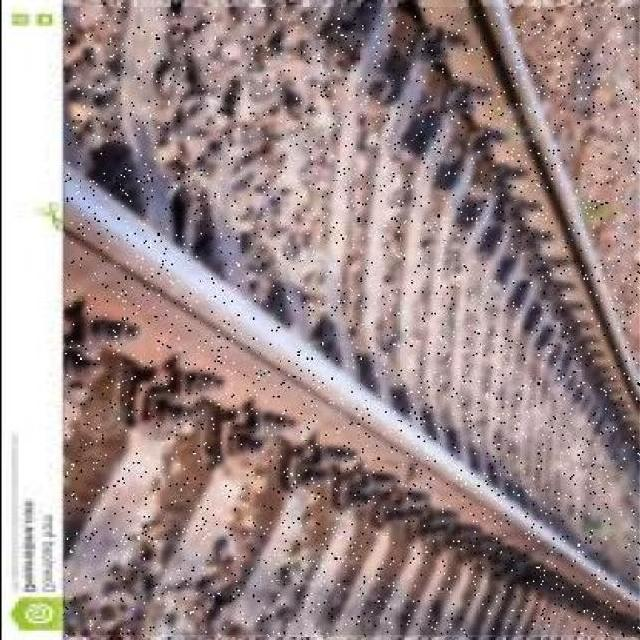rail: (65, 8, 640, 636)
